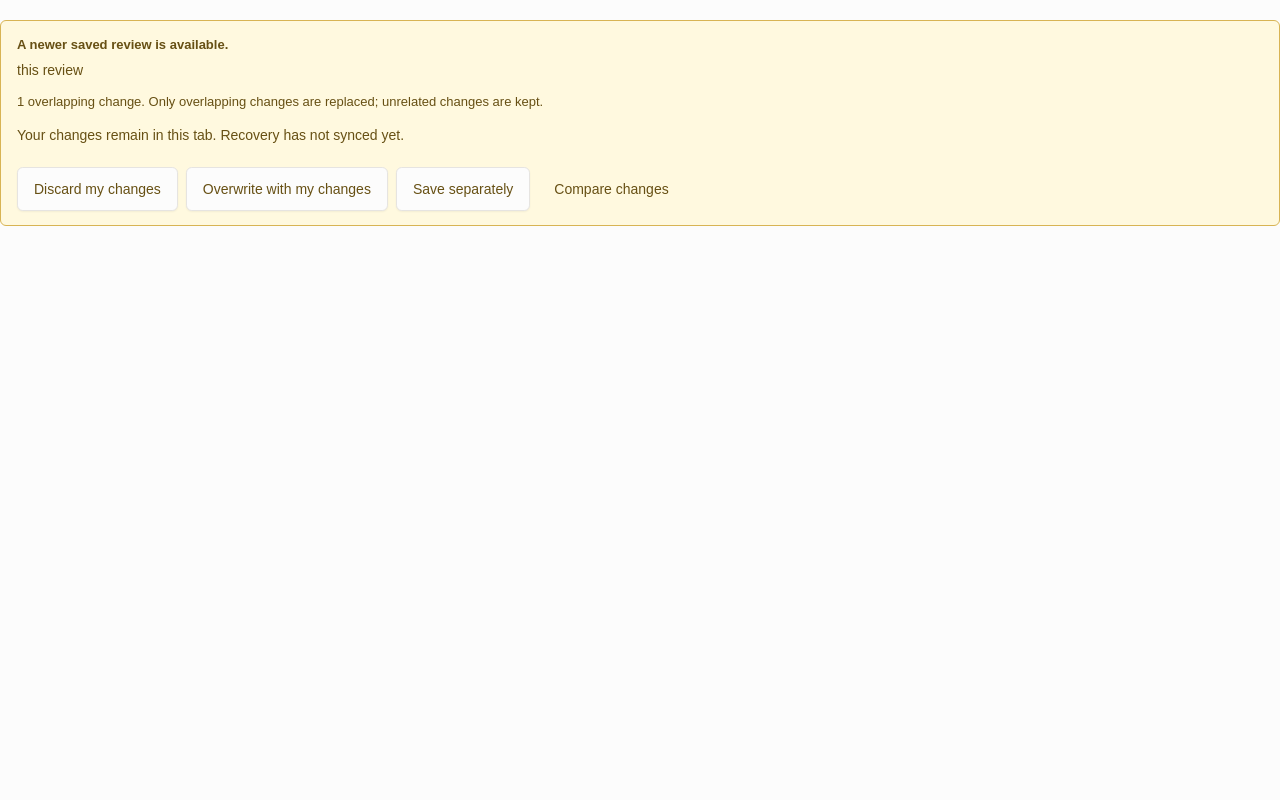
Test case: a comment removal comparison shows readable feedback and field names instead of raw IDs or object JSON
The width and height of the screenshot is (1280, 800).
Click the button "Compare changes": click(612, 189) [538, 167, 685, 211]
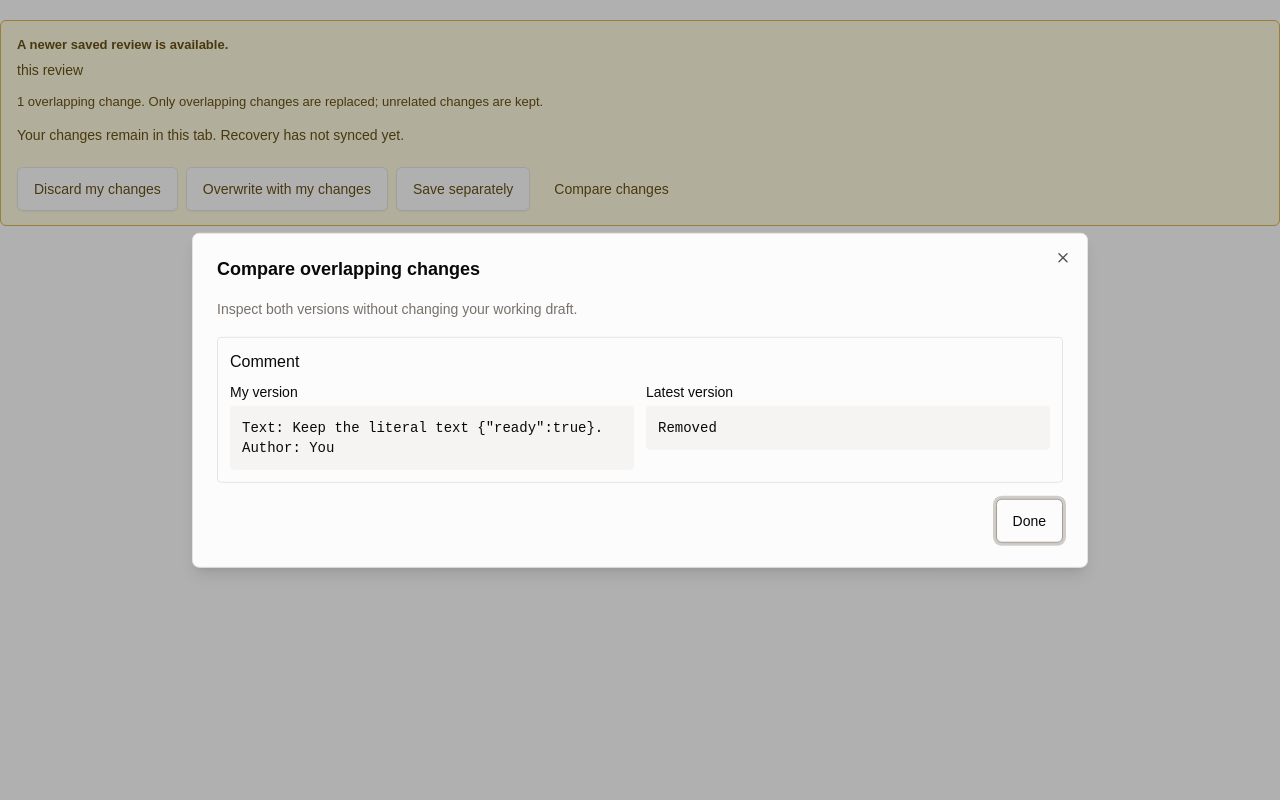
Expected: the text "Comment" is shown, [230, 352, 299, 369]
Expected: the text with test id "revision-compare-source" shows "Text: Keep the literal text {\"ready\":true}.", [242, 419, 603, 455]
Expected: the text with test id "revision-compare-source" shows "Author: You", [242, 419, 603, 455]
